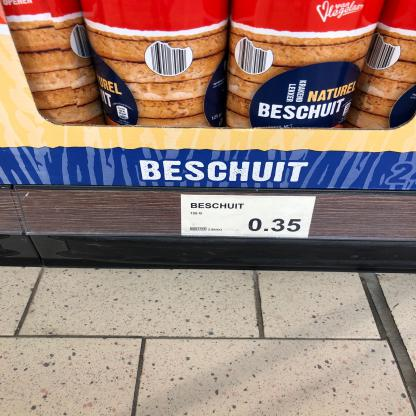prtg: (181, 195, 318, 239)
